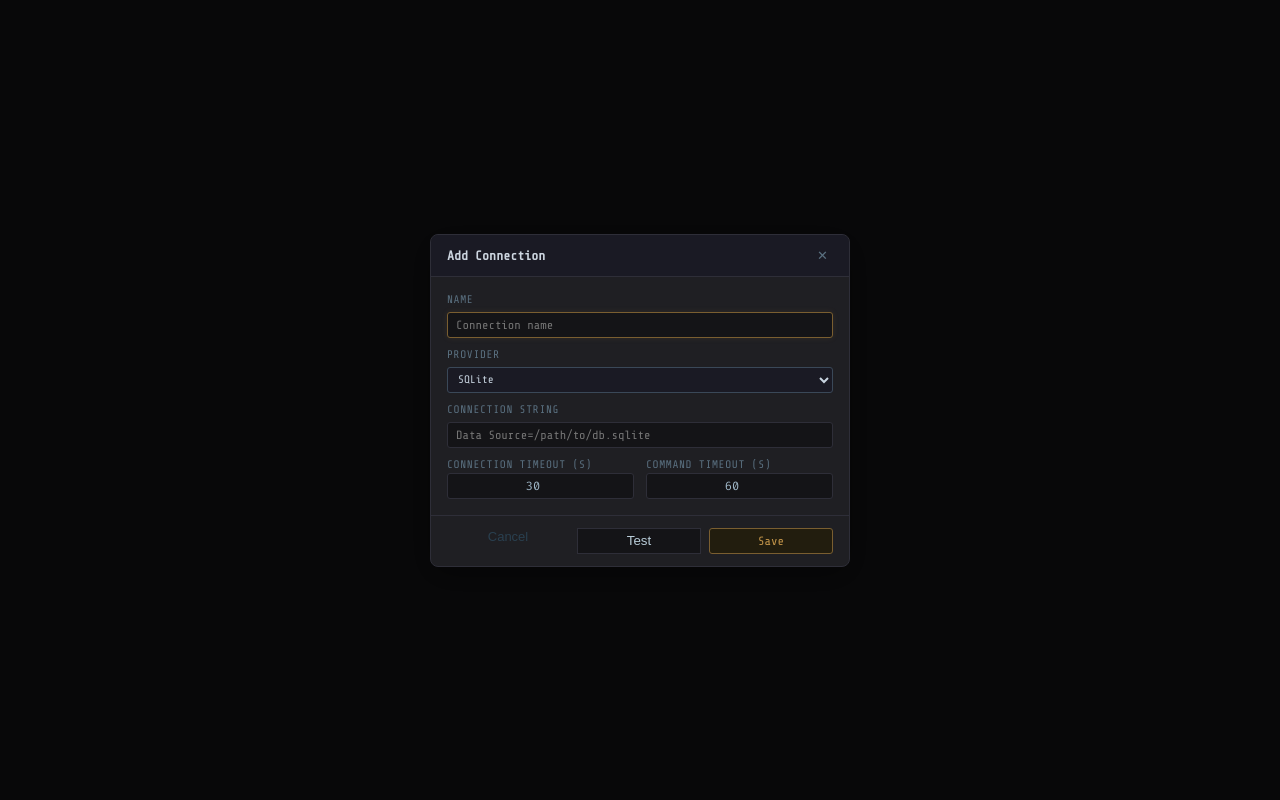
Test: DbConnectionDialog › shows error message on failed test
Type "Data Source=my.db" into the field with placeholder "Data Source=/path/to/db.sqlite" at (640, 434), box [447,422,833,448]
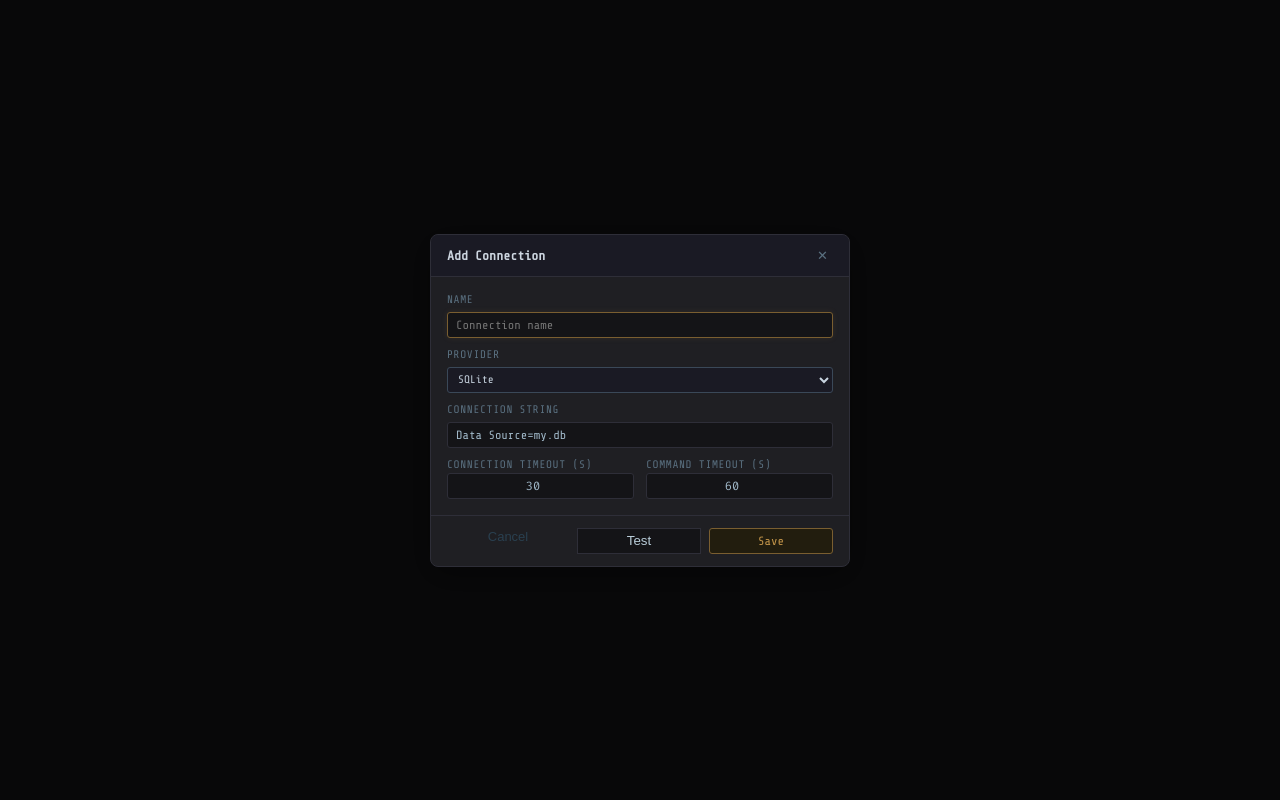
Click the button "Test" at (639, 540), box [577,528,701,554]
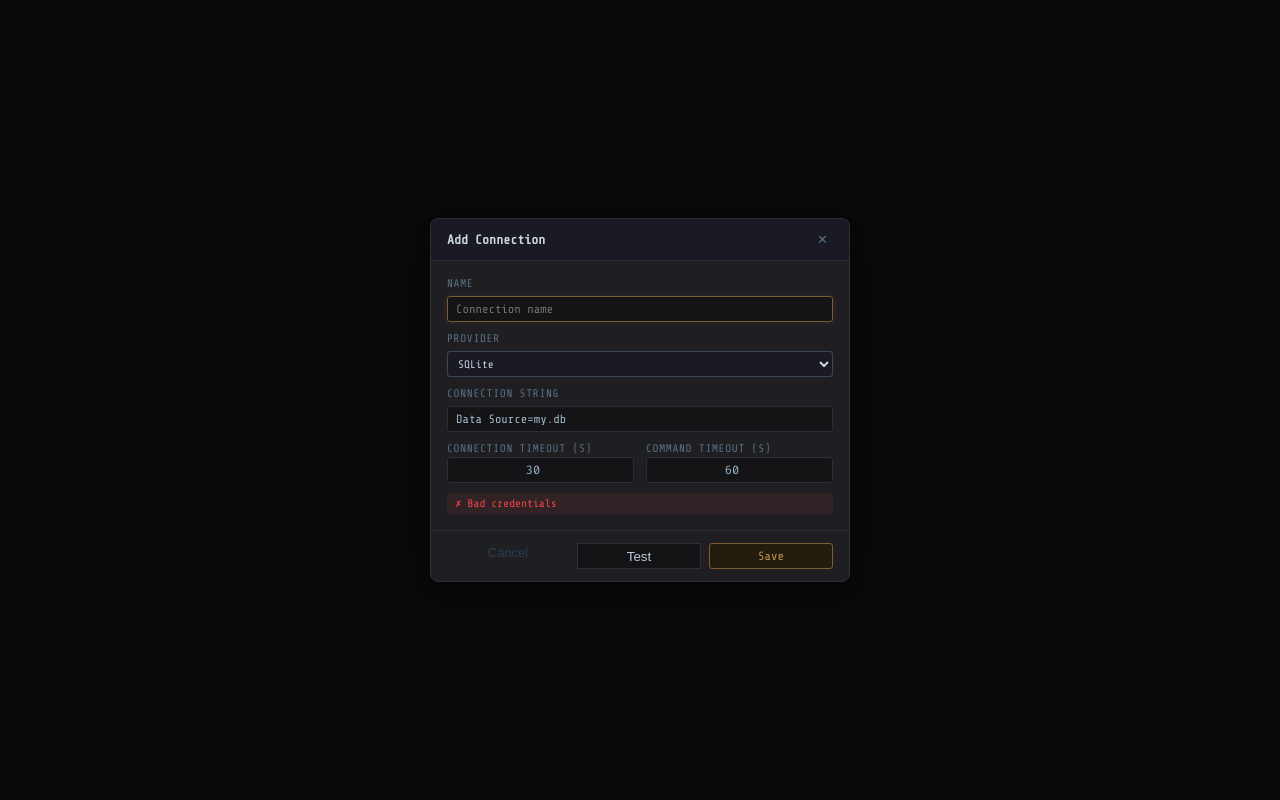
Expected: the text "✗ Bad credentials" is shown, [447,493,833,514]
